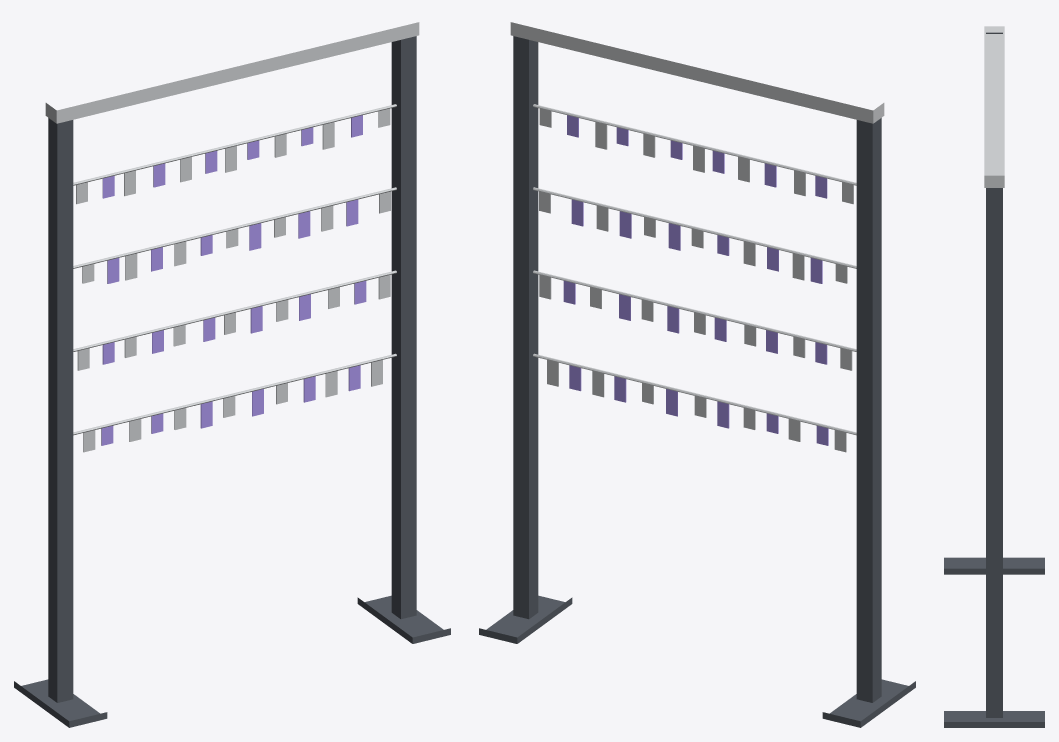
File: ext_memorial_tag_rack_01.glb
The picture shows the model from 3 angles, left to right: view 1: azimuth 30°, elevation 25°; view 2: azimuth 150°, elevation 25°; view 3: azimuth 270°, elevation 25°; orthographic projection. The views are drawn at different scales.
Parts seen in each view (by area): view 1: Posts, Tags_Ti, Tags_Violet, Top_Rail, Wires, Feet; view 2: Posts, Tags_Ti, Tags_Violet, Top_Rail, Wires, Feet; view 3: Posts, Top_Rail, Feet.
Boxes of the visible parts, x1=… form: Posts: x1=48, y1=36, x2=416, y2=702; Tags_Ti: x1=76, y1=108, x2=390, y2=452; Tags_Violet: x1=101, y1=115, x2=366, y2=445; Top_Rail: x1=45, y1=22, x2=419, y2=123; Wires: x1=73, y1=104, x2=396, y2=435; Feet: x1=14, y1=595, x2=450, y2=727; Posts: x1=513, y1=36, x2=881, y2=702; Tags_Ti: x1=539, y1=108, x2=853, y2=452; Tags_Violet: x1=563, y1=115, x2=828, y2=445; Top_Rail: x1=510, y1=22, x2=884, y2=123; Wires: x1=533, y1=104, x2=856, y2=435; Feet: x1=479, y1=595, x2=915, y2=727; Posts: x1=986, y1=32, x2=1002, y2=717; Top_Rail: x1=984, y1=26, x2=1004, y2=187; Feet: x1=944, y1=557, x2=1044, y2=727.
Bounding box in the file's own units: 1.2 × 1.8 × 0.3.
